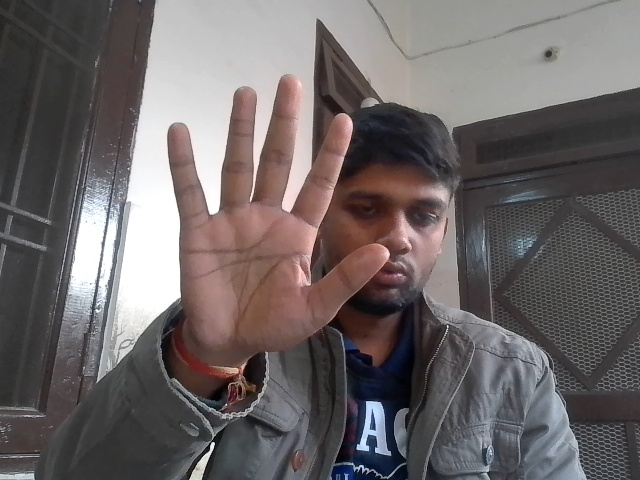Hello: (142, 62, 391, 363)
